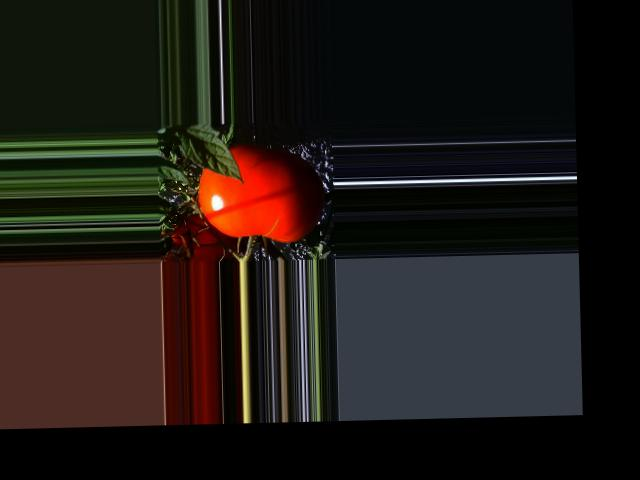tomato: (196, 142, 324, 244)
